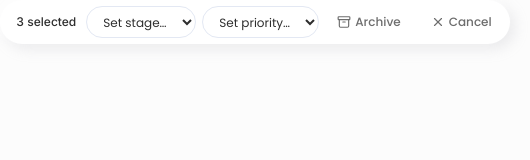
it: DealBulkBar › moves the selected deals to a stage, skipping those already there
Expected: the text "3 selected" is shown, [16,14,76,30]
Select "Demo" in the dropdown named "Set stage" at (141, 22), box [86,6,196,38]
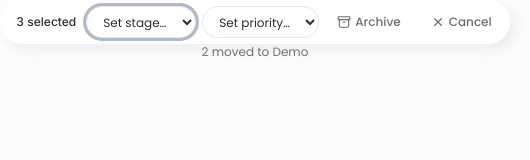
Now the message reads "2 moved to Demo", box [202,43,308,60]
